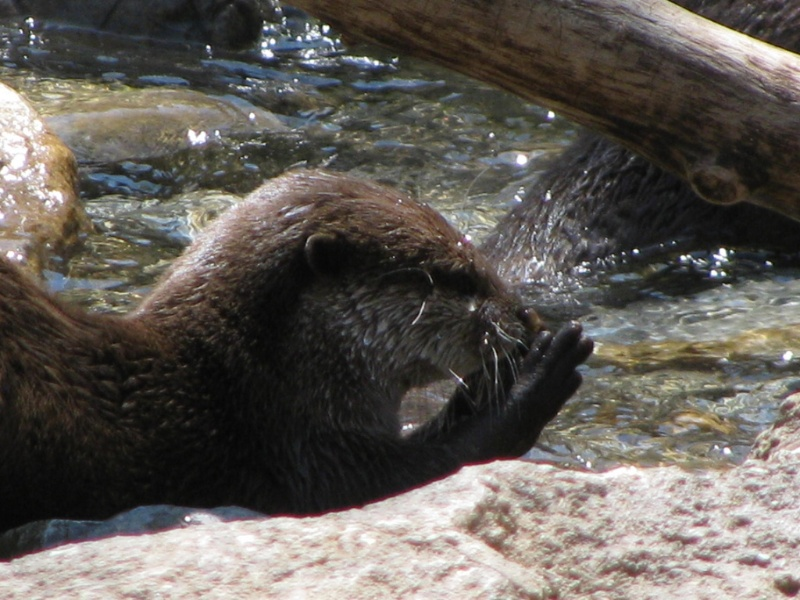minkish: (1, 174, 597, 558)
